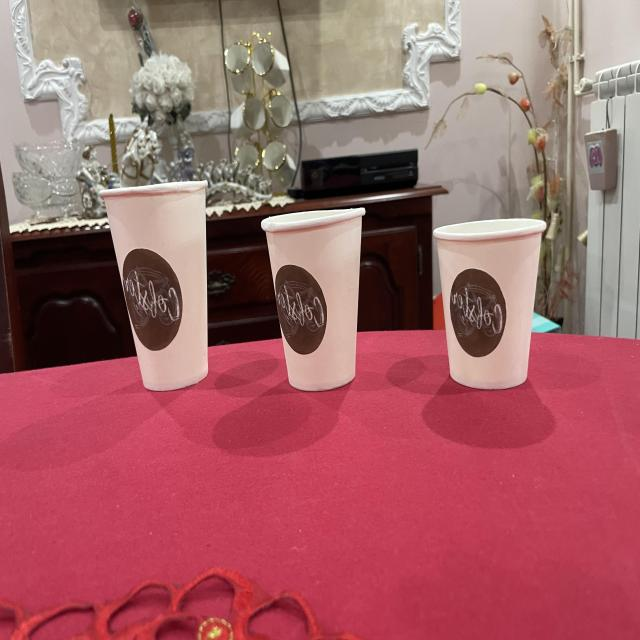big: (100, 176, 214, 397)
medium: (260, 201, 373, 397)
small: (434, 214, 545, 395)
